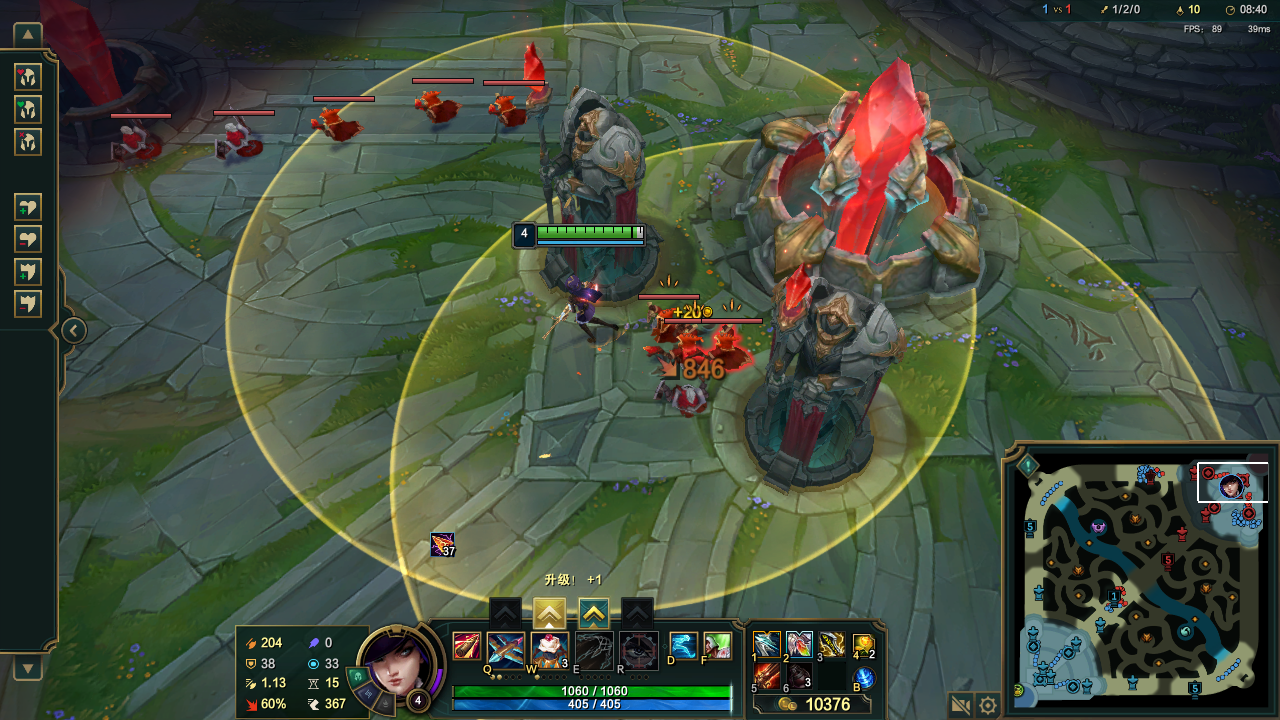DFDSJ: (738, 74, 977, 283)
DFFYT: (749, 291, 915, 480), (546, 86, 647, 312)
